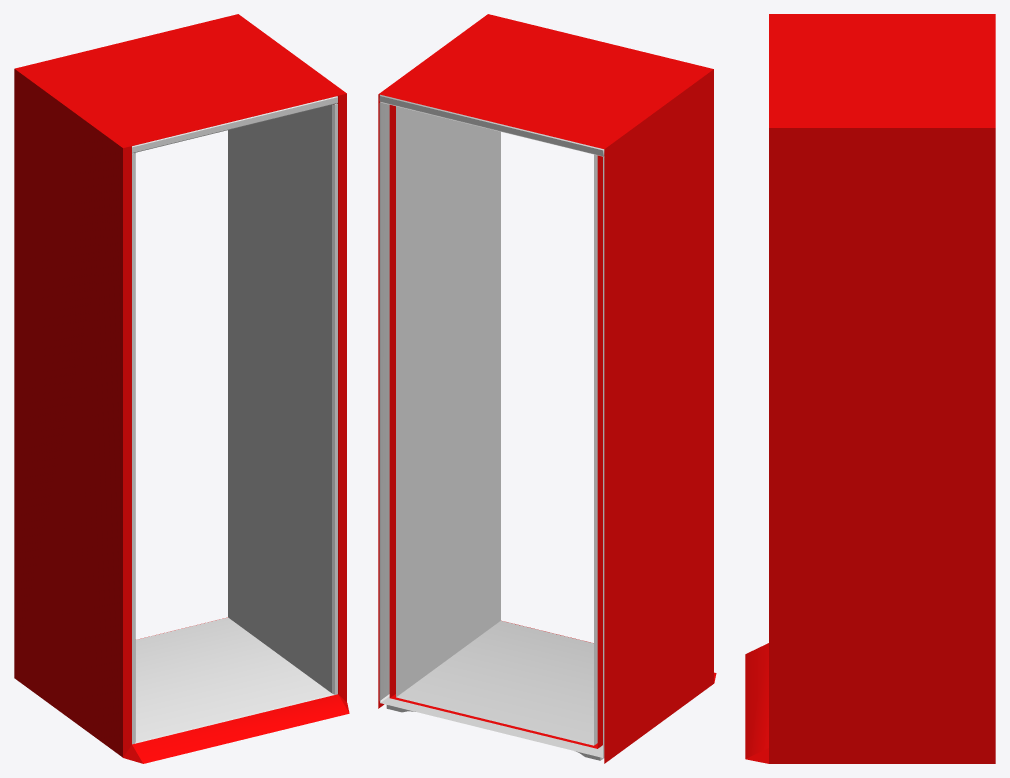
File: spind.fbx
3 views of the same model, side by side, from view 1: azimuth 30°, elevation 25°; view 2: azimuth 150°, elevation 25°; view 3: azimuth 270°, elevation 25° (orthographic). The views are drawn at different scales.
Parts seen in each view (by area): view 1: colmesh, spind; view 2: colmesh, spind; view 3: colmesh.
Boxes of the visible parts, x1,y1,x2,y2 form: colmesh: (14, 14, 349, 763); spind: (132, 96, 337, 744); colmesh: (378, 14, 716, 763); spind: (379, 94, 604, 760); colmesh: (745, 14, 995, 763).
Size of the model in its own units: 70.82 by 184 by 65.59.
